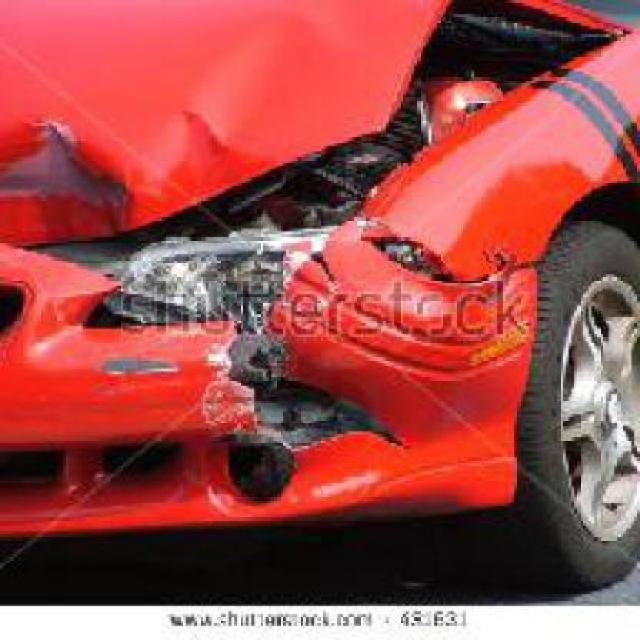damaged-rear-bumper: (16, 248, 526, 503)
